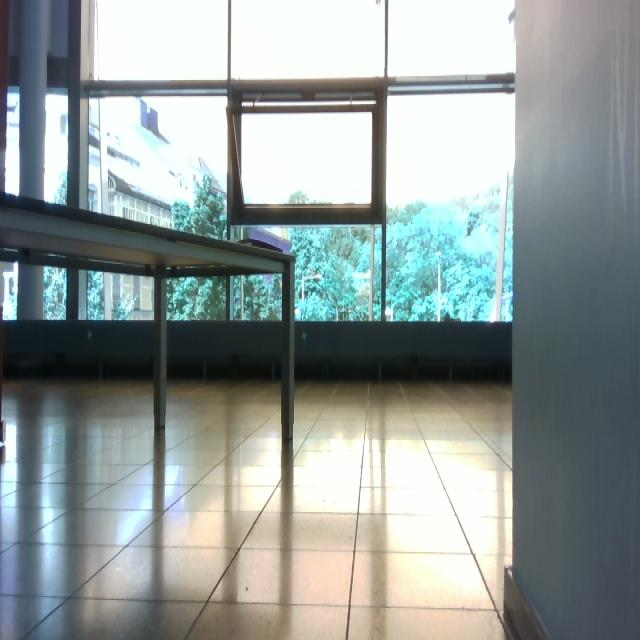door: (159, 268, 293, 440)
light bulb: (302, 273, 323, 321), (60, 115, 68, 135), (9, 277, 15, 296)
pillar: (505, 1, 640, 640)
table: (2, 191, 300, 447)
tiled floor: (2, 376, 514, 638)
